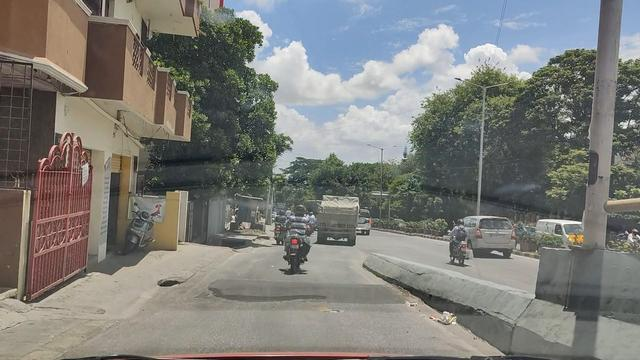HMV: (315, 192, 362, 245)
LMV: (120, 196, 165, 259)
RoadDamages: (155, 265, 188, 291), (312, 297, 352, 318)
